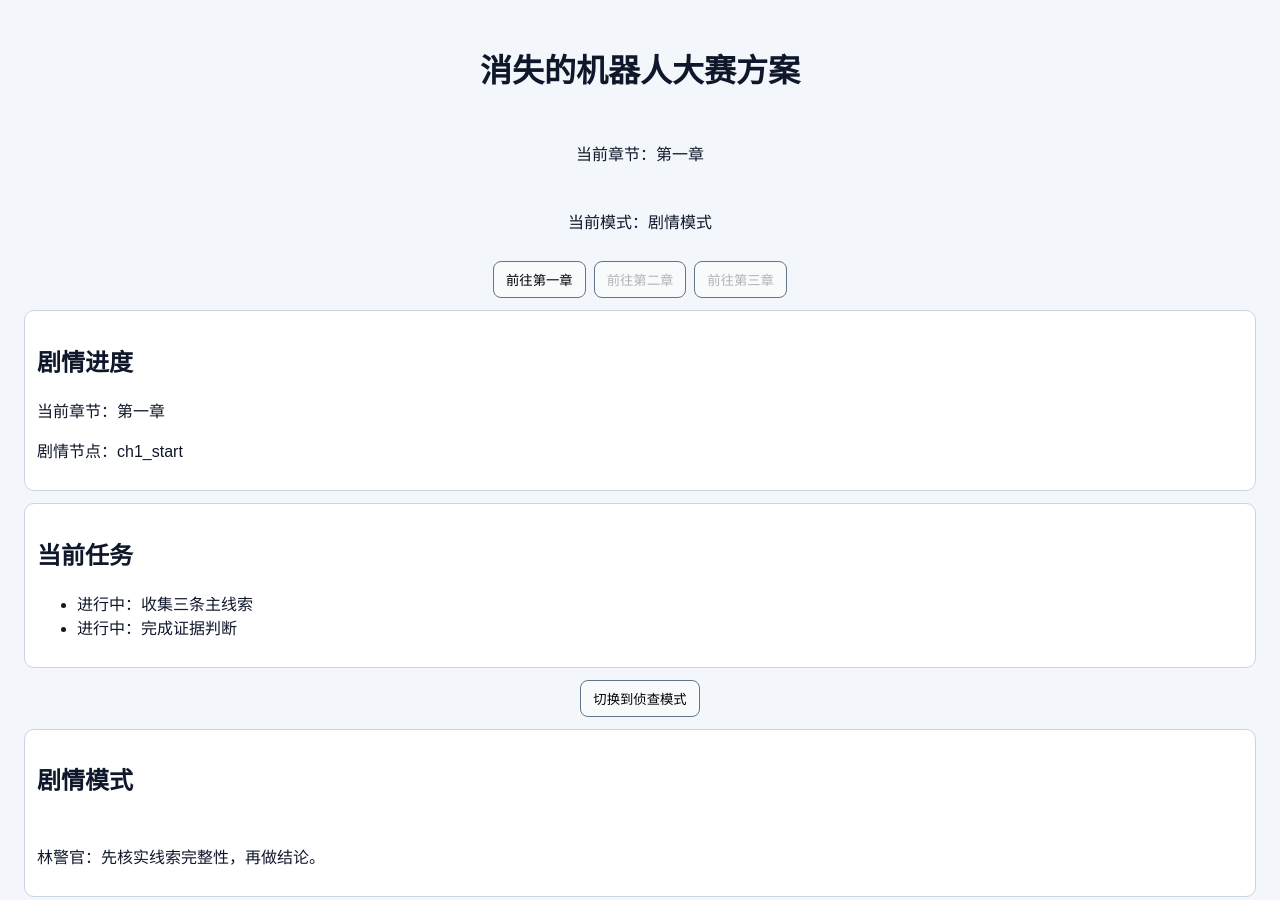
Test case: toggle mode
This screenshot has width=1280, height=900.
Check: the text "当前模式：剧情模式" is shown, box [568,209,712,233]
Click the button "切换到侦查模式" at (640, 698), box [580,680,700,716]
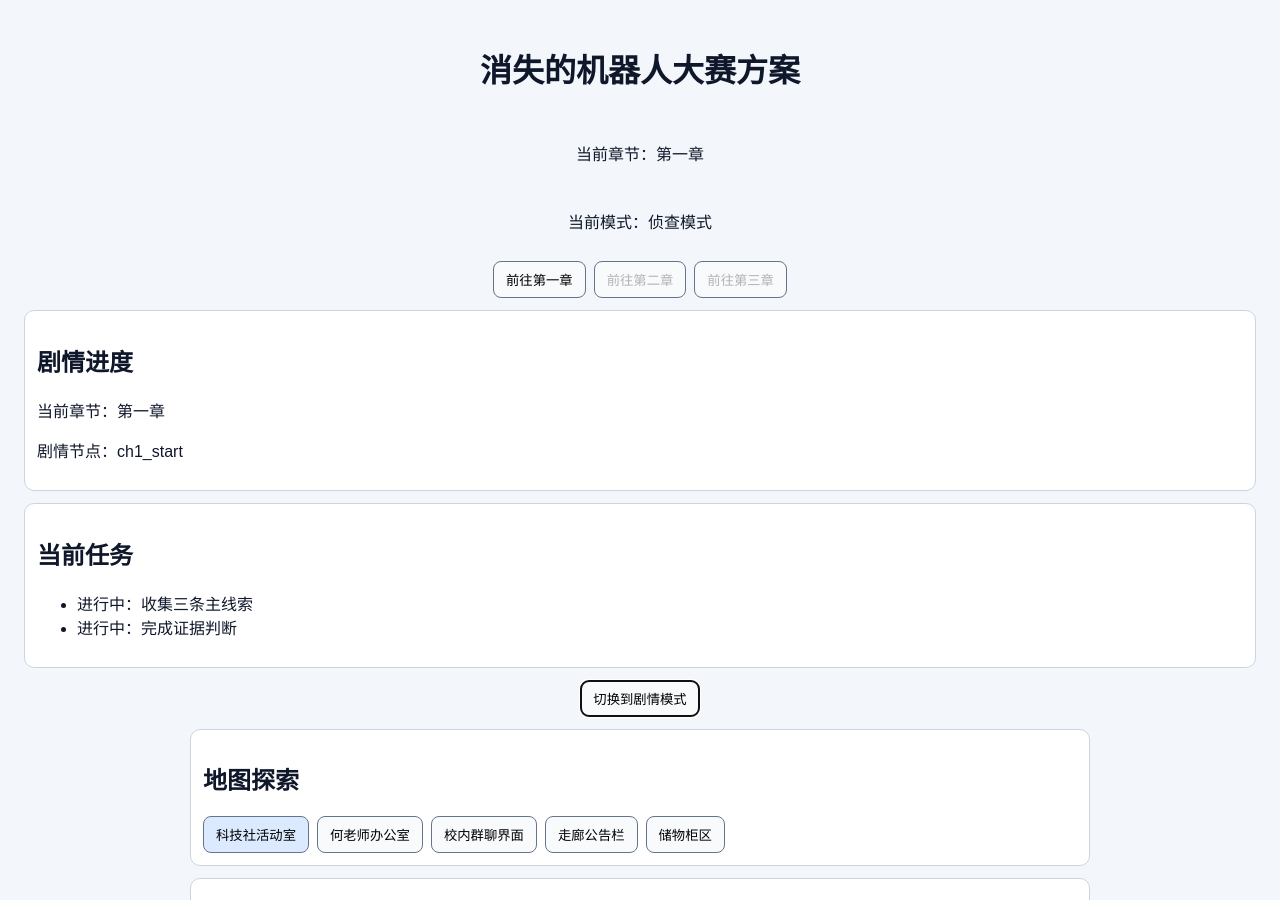
Check: the text "当前模式：侦查模式" is shown, box [568,209,712,233]
Click the button "切换到剧情模式" at (640, 698), box [580,680,700,716]
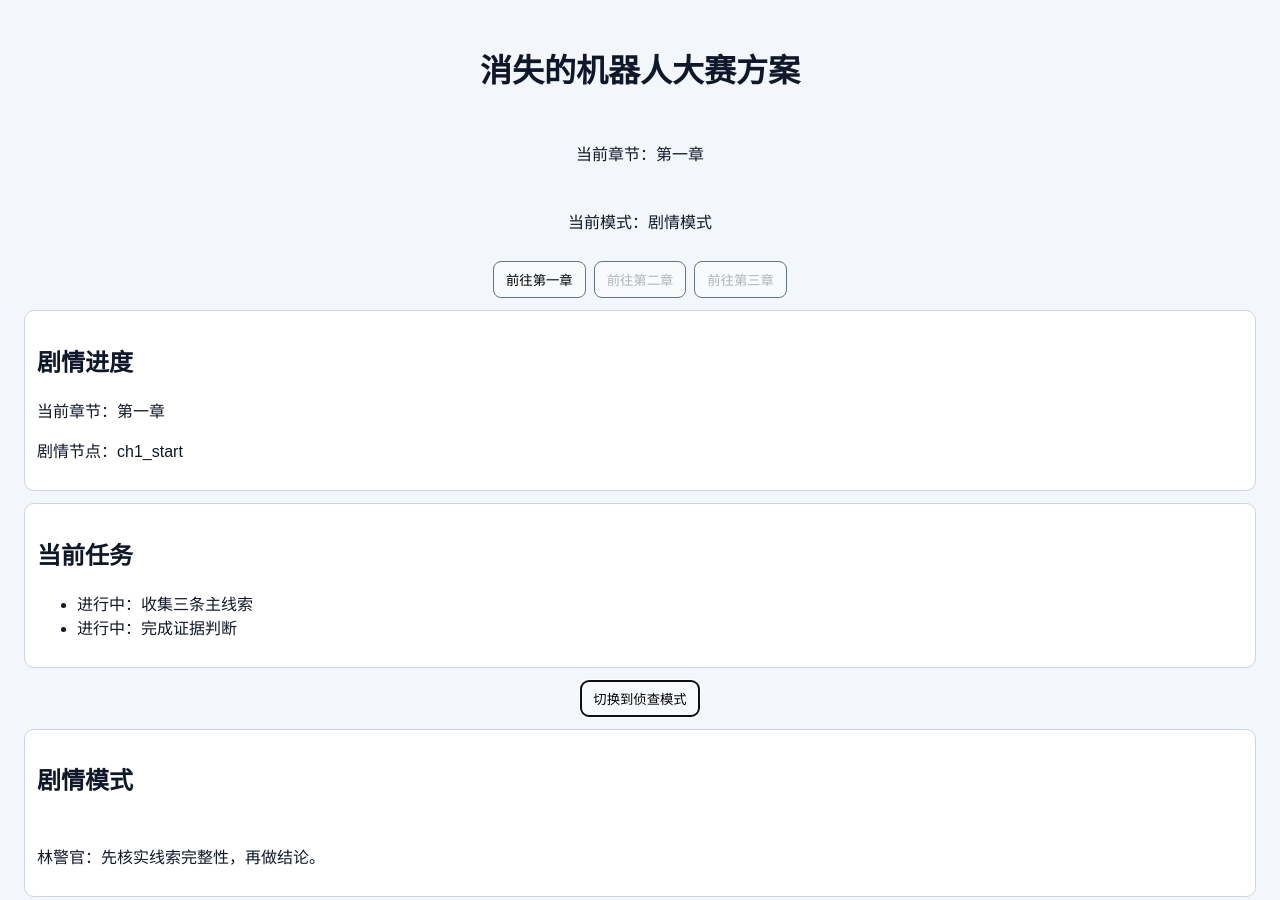
Check: the text "当前模式：剧情模式" is shown, box [568,209,712,233]
